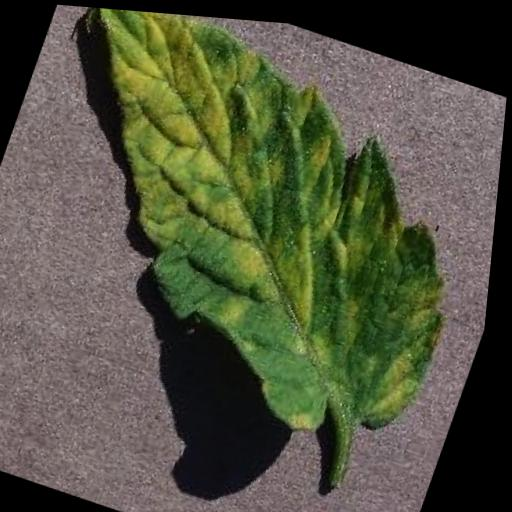Leaf Mold: (0, 0, 512, 463)
